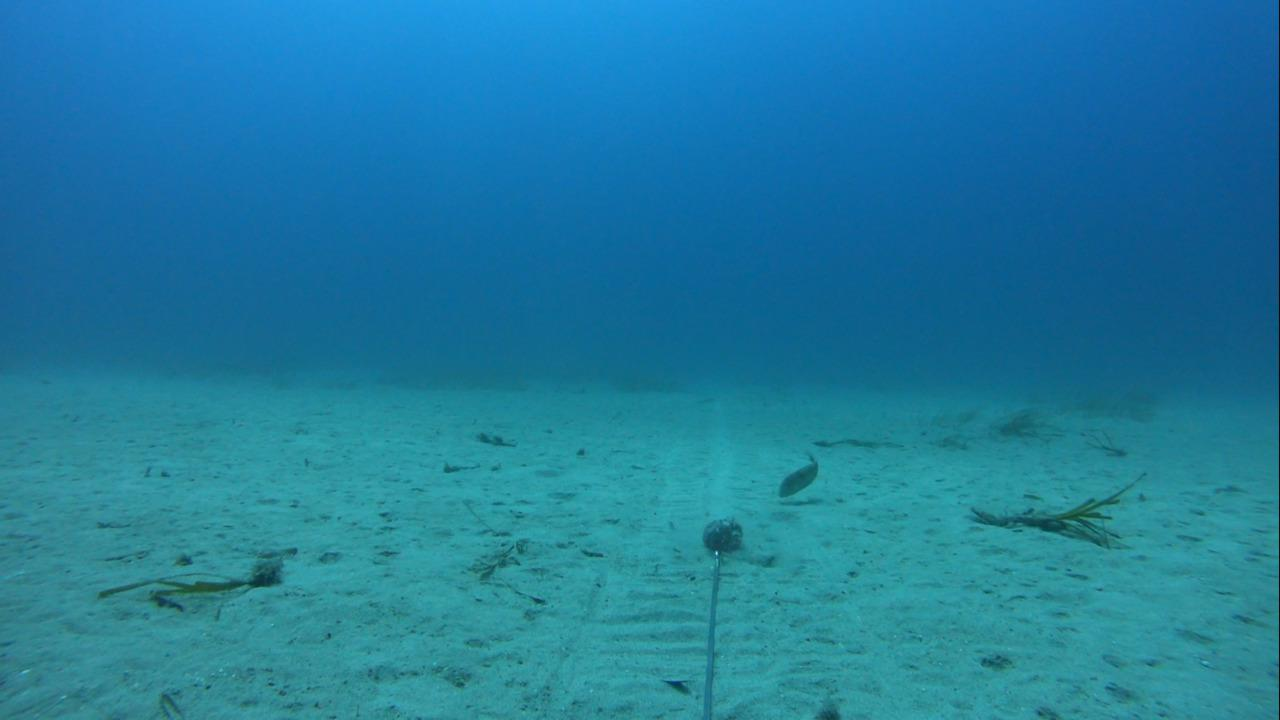raor: (777, 451, 821, 499)
